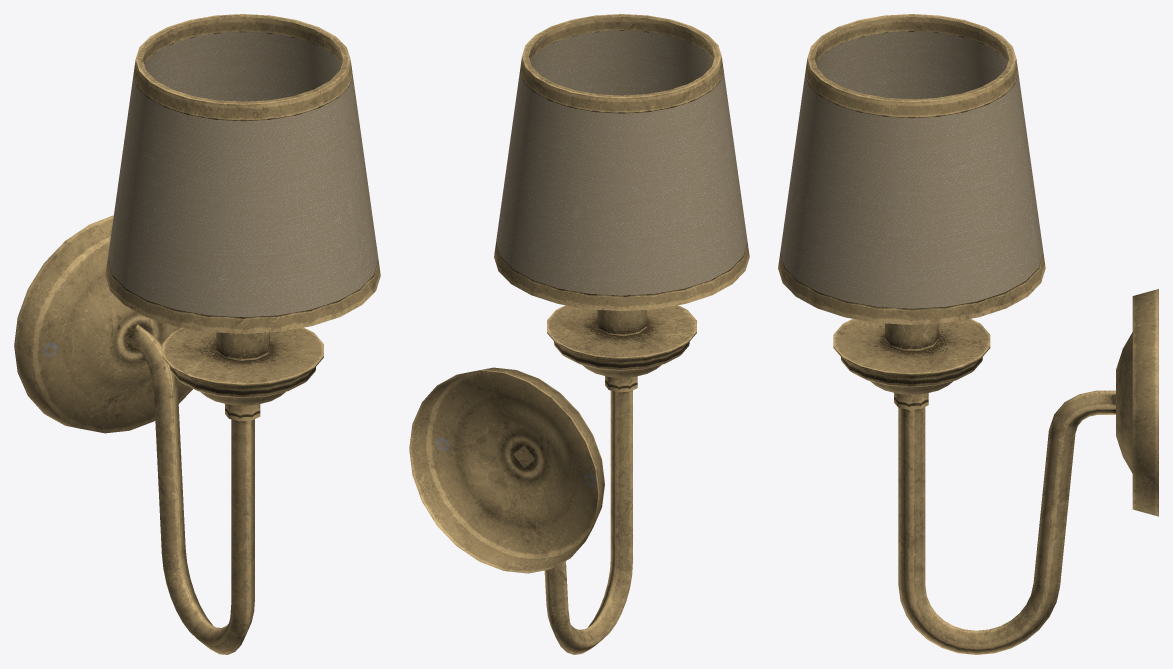
Rendered from LampWall.FBX.
The picture shows the model from 3 angles, left to right: view 1: azimuth 30°, elevation 25°; view 2: azimuth 150°, elevation 25°; view 3: azimuth 270°, elevation 25°; orthographic projection. The views are drawn at different scales.
Parts seen in each view (by area): view 1: LampWall_LOD0; view 2: LampWall_LOD0; view 3: LampWall_LOD0.
Part boxes in pixels (x1,y1,x2,y2): LampWall_LOD0: (14,14,380,654); LampWall_LOD0: (409,14,749,654); LampWall_LOD0: (778,14,1158,654).
Size of what is drawn, in the model's own units: 15 by 36.9 by 21.35.
